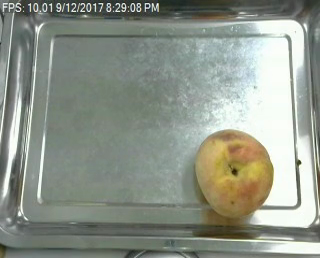Peach: (194, 128, 274, 218)
